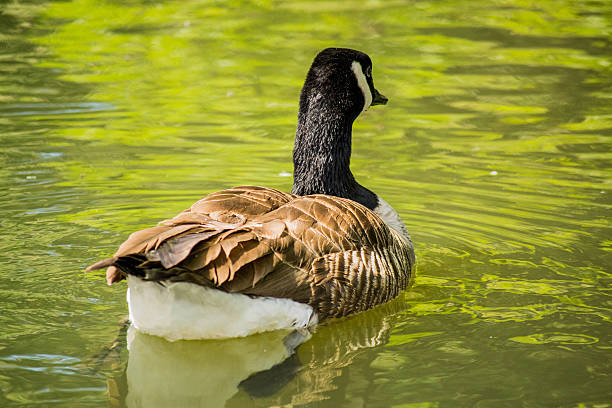goose: (81, 45, 420, 345)
